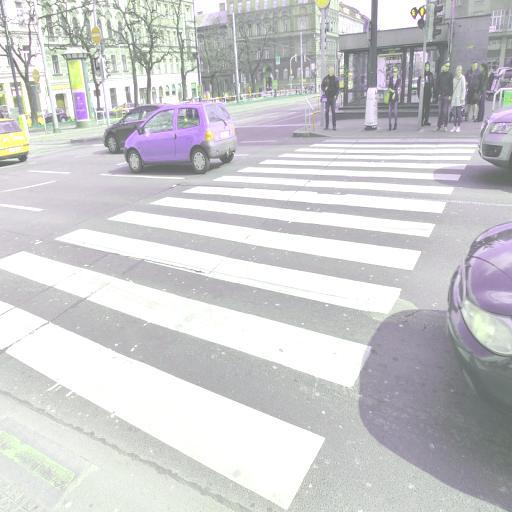crosswalk: (46, 206, 426, 318), (280, 142, 476, 164)
